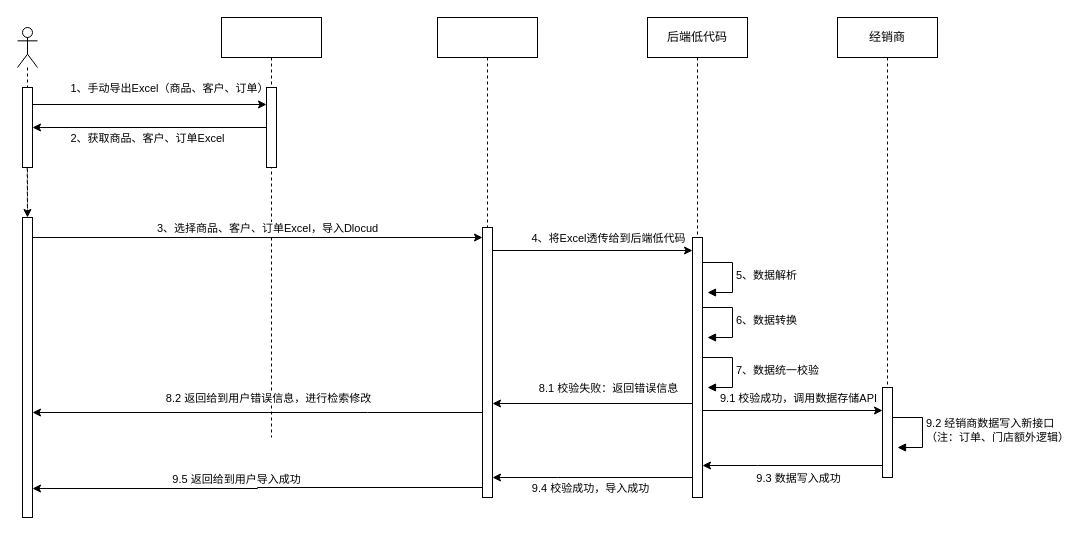
Some shapes in this 1087 by 535 pixel diagram are drawn without their labels. The box of each missing label's shape, as (x1, y1, x2, y2) in pixels:
Dcloud前端: (436, 16, 538, 438)
第三方 经销商ERP: (220, 16, 322, 438)
